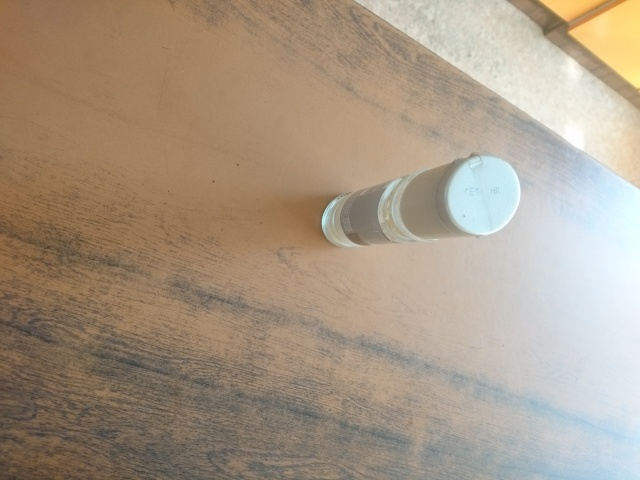Kotanyi Garlic Granules 70g: (318, 150, 524, 251)
